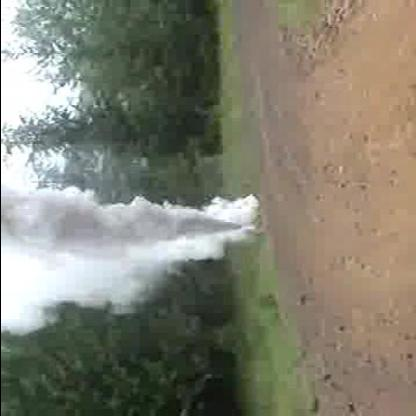Smoke: (2, 196, 251, 315)
